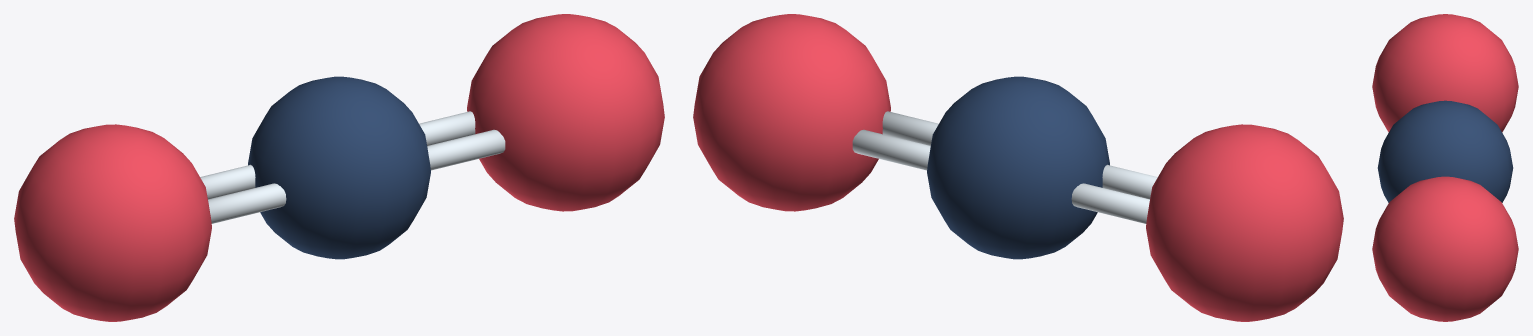
The model's file is carbon-dioxide-lite.glb.
3 renders of one model, left to right at view 1: azimuth 30°, elevation 25°; view 2: azimuth 150°, elevation 25°; view 3: azimuth 270°, elevation 25°, orthographic. The views are drawn at different scales.
Parts seen in each view (by area): view 1: Carbon; view 2: Carbon; view 3: Carbon.
Boxes of the visible parts, x1,y1,x2,y2 form: Carbon: (14, 14, 664, 321); Carbon: (693, 14, 1343, 321); Carbon: (1372, 14, 1518, 321).
Bounding box in the file's own units: 2.9 × 0.8 × 0.8.
